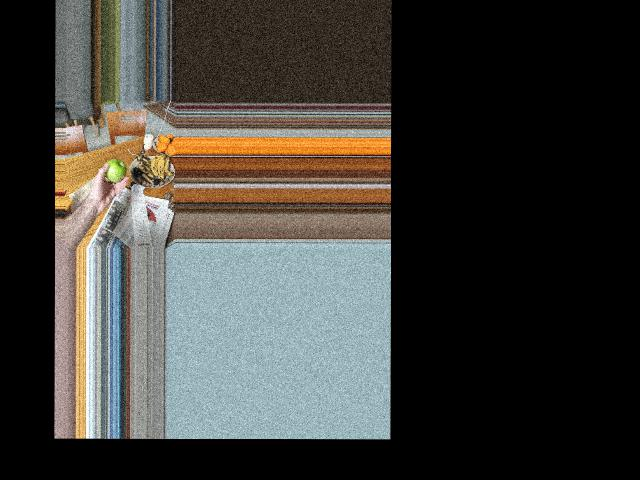apple: (100, 157, 127, 186)
